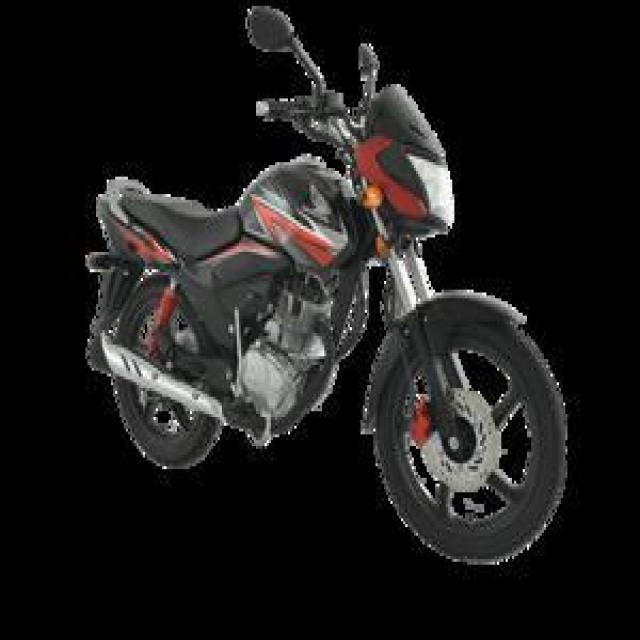motorcycle: (73, 0, 579, 573)
